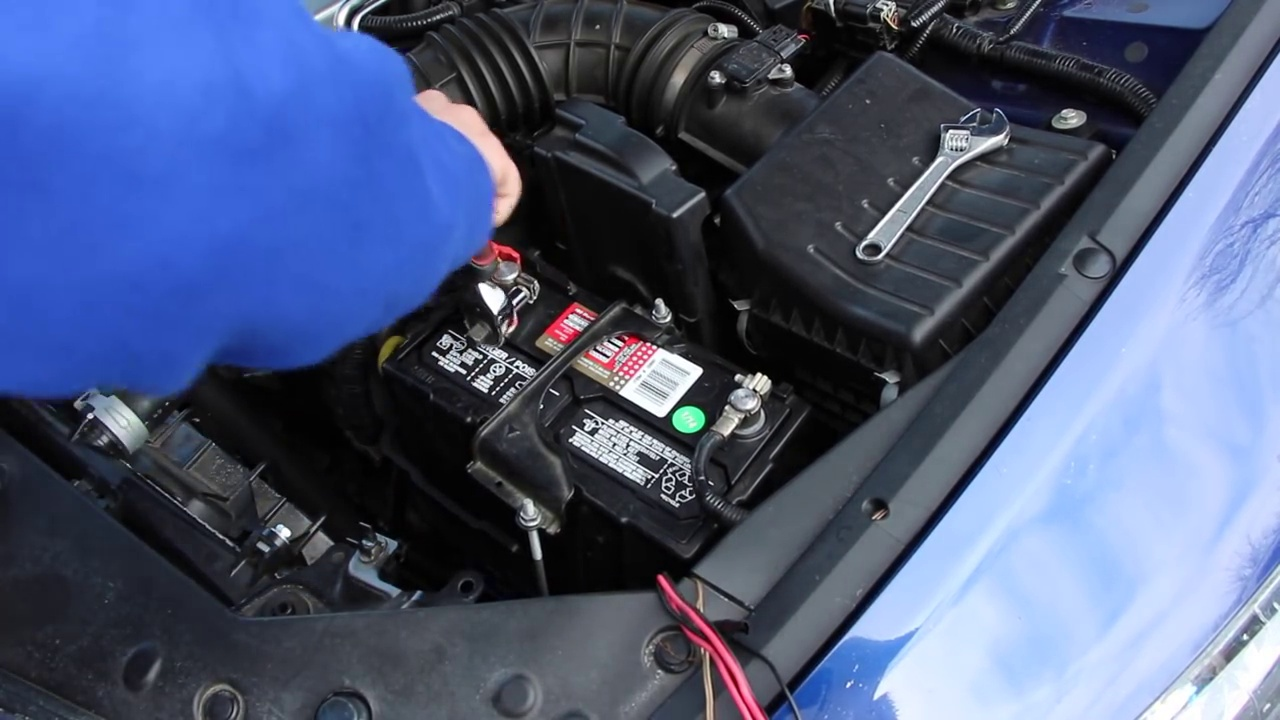battery: (393, 249, 789, 569)
neg_connected: (689, 338, 780, 503)
pos_touched: (425, 140, 552, 325)
